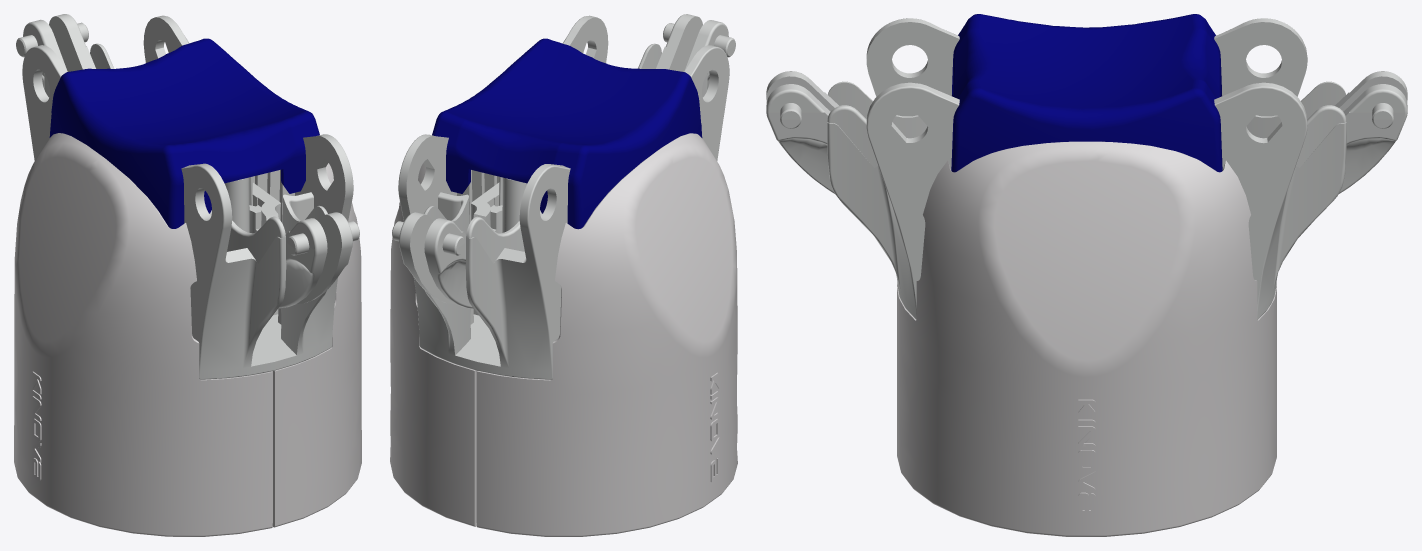
Rendered from Gen3Lite_j4.gltf.
3 renders of one model, left to right at view 1: azimuth 30°, elevation 25°; view 2: azimuth 150°, elevation 25°; view 3: azimuth 270°, elevation 25°, orthographic. The views are drawn at different scales.
Parts seen in each view (by area): view 1: GRIPPER_MODEL_LITE016; view 2: GRIPPER_MODEL_LITE016; view 3: GRIPPER_MODEL_LITE016.
Boxes of the visible parts, x1,y1,x2,y2 form: GRIPPER_MODEL_LITE016: (14,14,361,536); GRIPPER_MODEL_LITE016: (390,14,737,536); GRIPPER_MODEL_LITE016: (766,14,1407,536).
Bounding box in the file's own units: 0.066 × 0.0774 × 0.1105.
